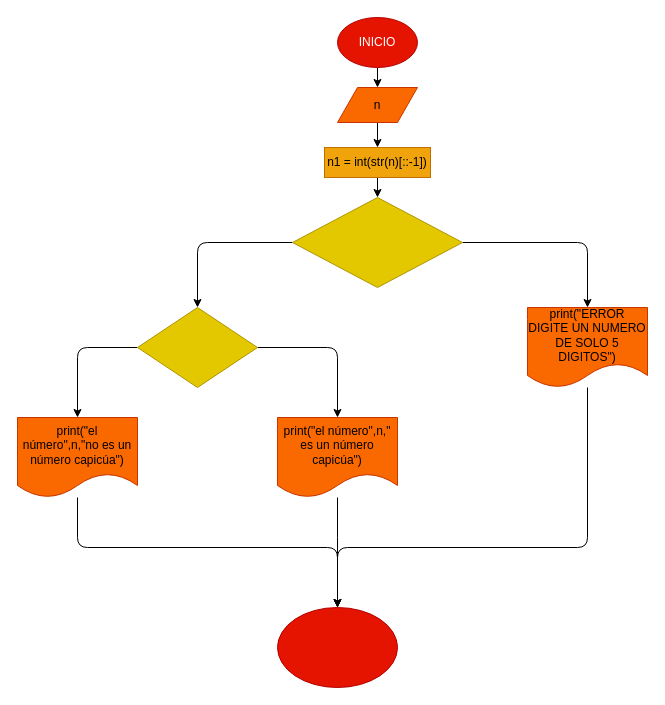
Image size: 665x705. Some labels were removed from this diagram. The shapes that lost their labels are listed below. From the top down, each one's centre as x and y in pixels, then its label:
(x=377, y=242): n >= 100000 or n <= 9999
(x=197, y=347): n1 == n
(x=337, y=647): FINAL
